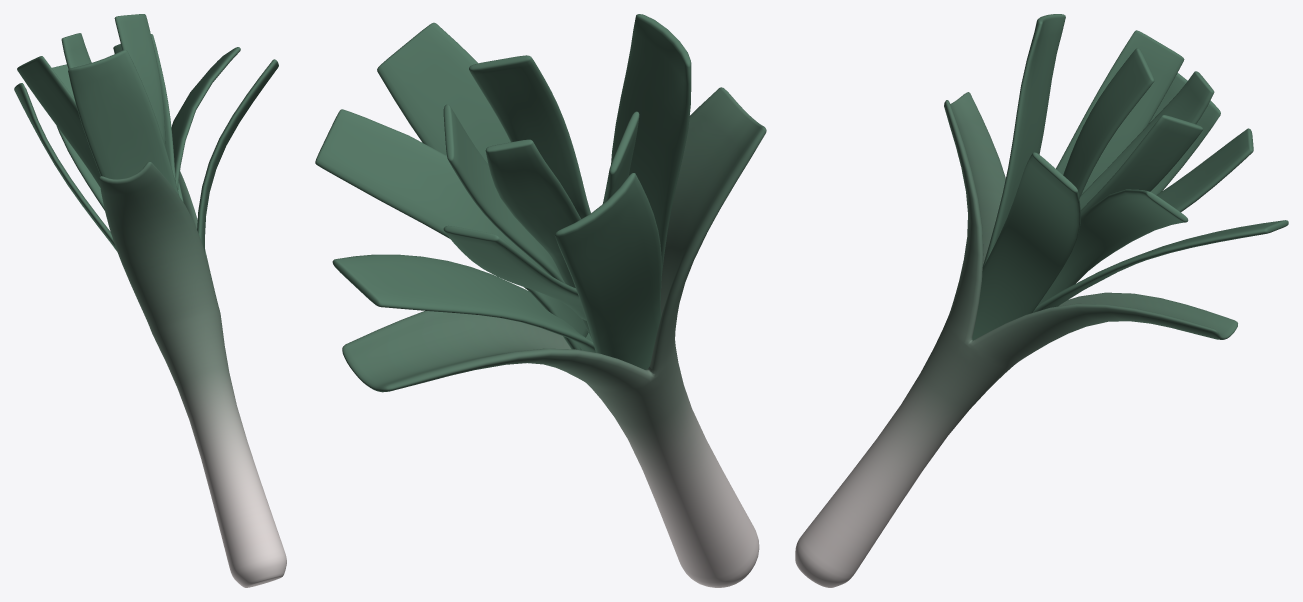
File: green_leek.glb
3 views of the same model, side by side, from view 1: azimuth 30°, elevation 25°; view 2: azimuth 150°, elevation 25°; view 3: azimuth 270°, elevation 25° (orthographic). The views are drawn at different scales.
Parts seen in each view (by area): view 1: icons8_green_leek; view 2: icons8_green_leek; view 3: icons8_green_leek.
Boxes of the visible parts, <box> form: icons8_green_leek: <box>14,14,286,587</box>; icons8_green_leek: <box>315,14,766,587</box>; icons8_green_leek: <box>795,14,1288,587</box>.
Bounding box in the file's own units: 0.9871 × 2 × 1.65.
Materials: 1 (1 with a texture image).
